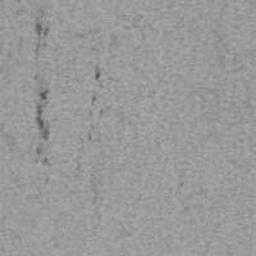Inclusion: (33, 86, 50, 140), (32, 13, 52, 54), (93, 63, 102, 81), (91, 95, 99, 106), (87, 129, 93, 142), (36, 145, 42, 157), (42, 156, 49, 166), (100, 106, 105, 116)
